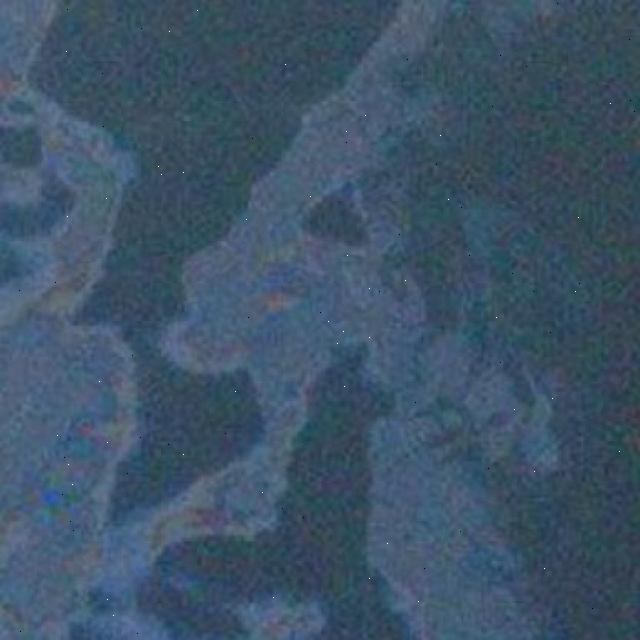sheen: (152, 26, 398, 553), (0, 0, 137, 639), (372, 337, 557, 640)
